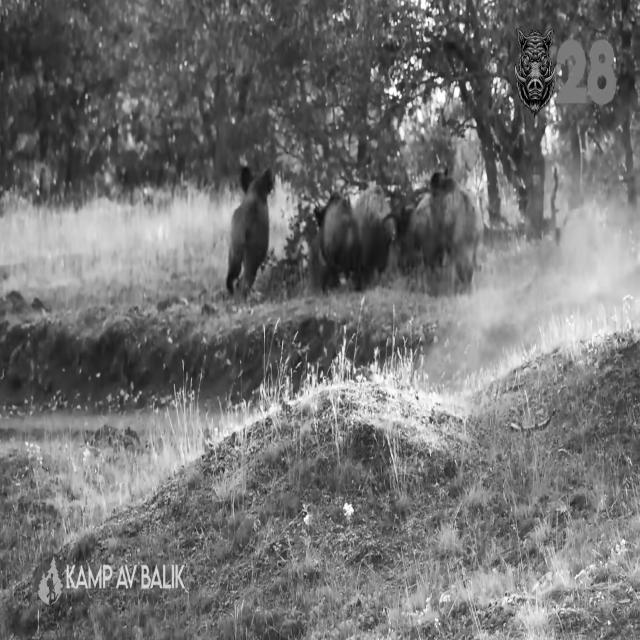boar: (308, 172, 477, 294), (227, 169, 270, 292)
